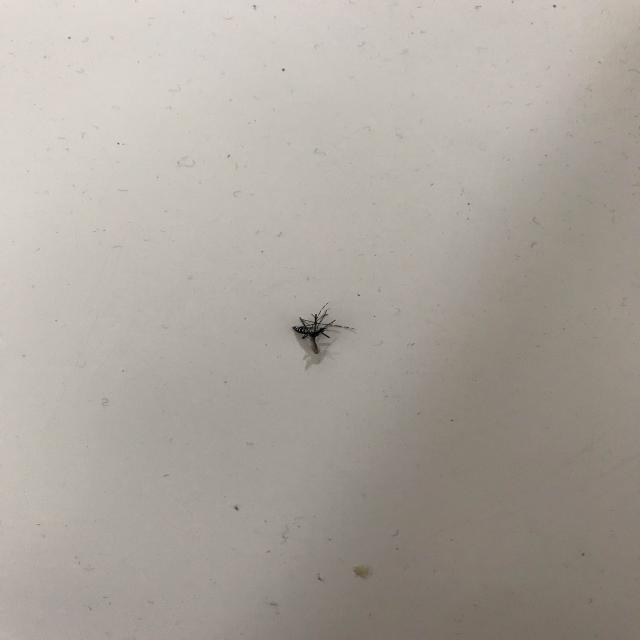albopictus: (288, 300, 355, 362)
